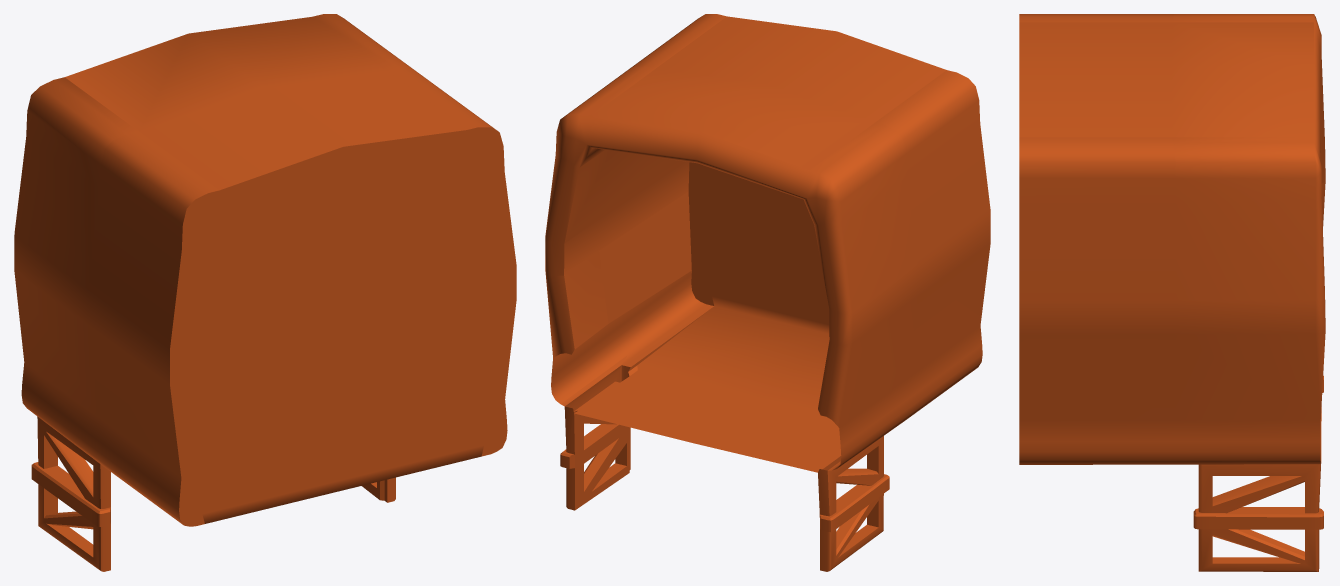
The model's file is MODEL_ENV_ConveyorExit.fbx.
3 views of the same model, side by side, from view 1: azimuth 30°, elevation 25°; view 2: azimuth 150°, elevation 25°; view 3: azimuth 270°, elevation 25° (orthographic). The views are drawn at different scales.
Parts seen in each view (by area): view 1: Conveyor_Exit; view 2: Conveyor_Exit; view 3: Conveyor_Exit.
Part boxes in pixels (x1=…): Conveyor_Exit: x1=14, y1=14, x2=516, y2=571; Conveyor_Exit: x1=545, y1=14, x2=990, y2=571; Conveyor_Exit: x1=1019, y1=14, x2=1325, y2=571.
Bounding box in the file's own units: 3.28 × 4.15 × 2.64.
